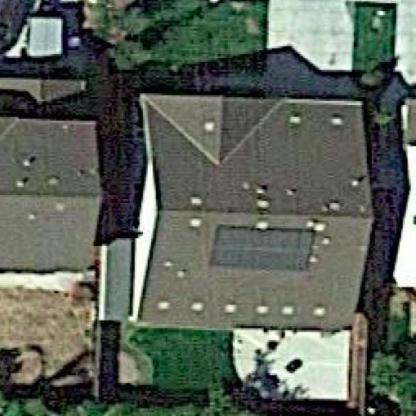solar_panel: (208, 217, 318, 285)
